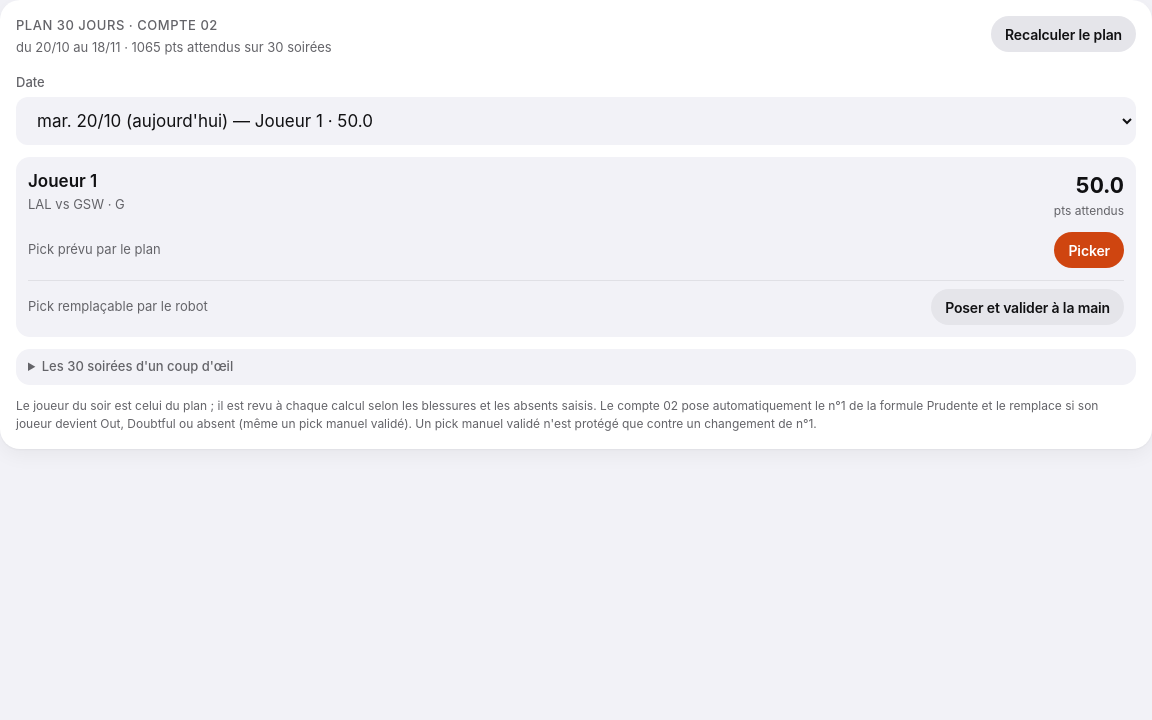
Test: Pick manuel validé (compte 02) › une erreur du serveur (cycle de 30 jours) est affichée et rien n'est rafraîchi
This screenshot has width=1152, height=720.
Click the button "Poser et valider à la main": (1028, 307) [931,289,1124,325]
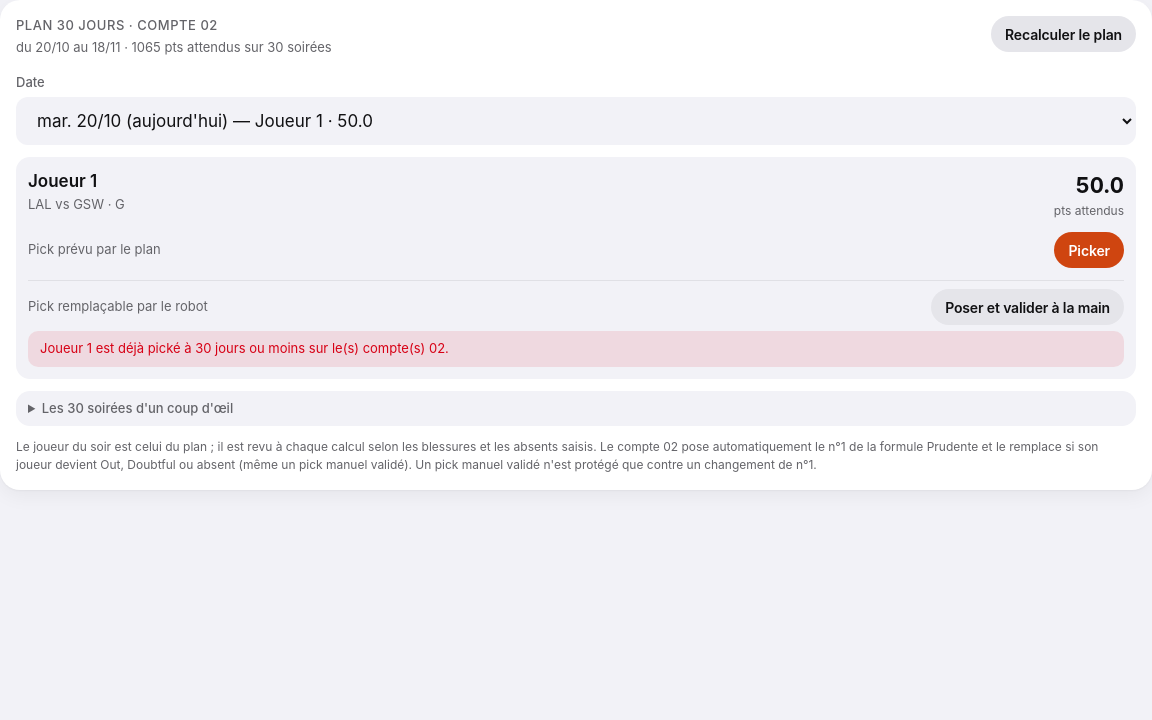
Expected: the text "déjà pické à 30 jours" is shown, [40,340,449,356]
